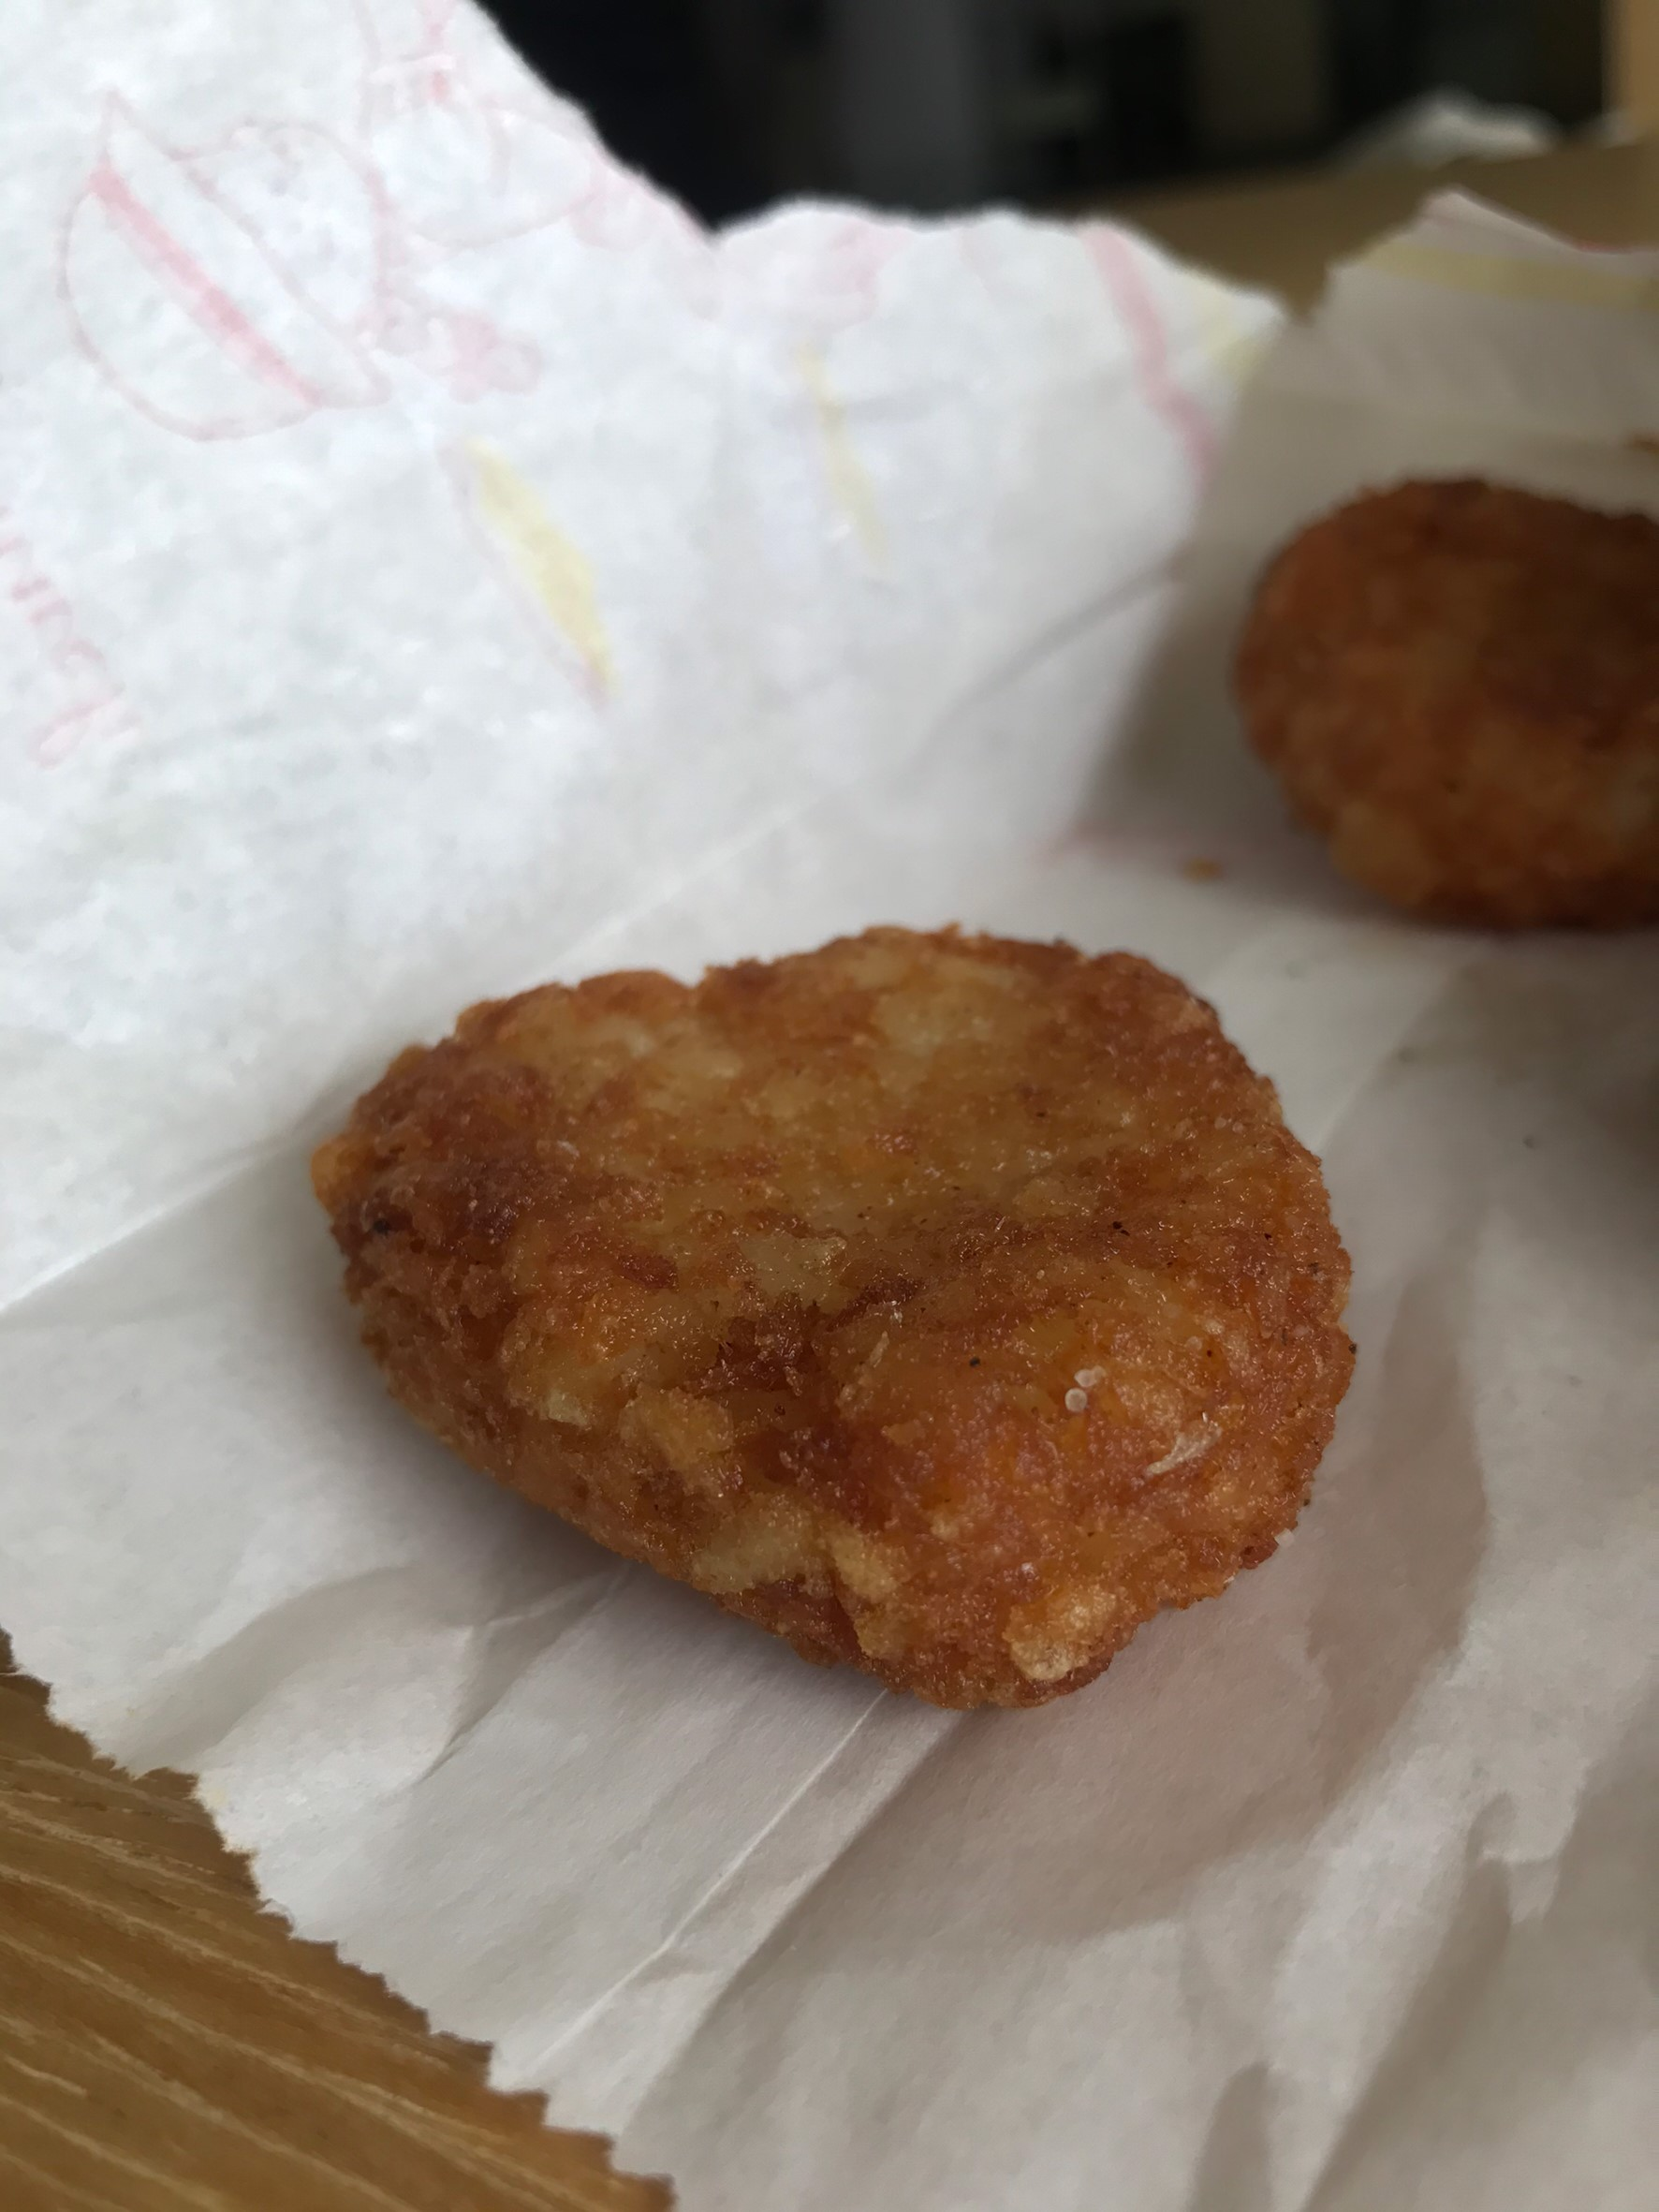triangle_hash_brown: (307, 917, 1371, 1701)
